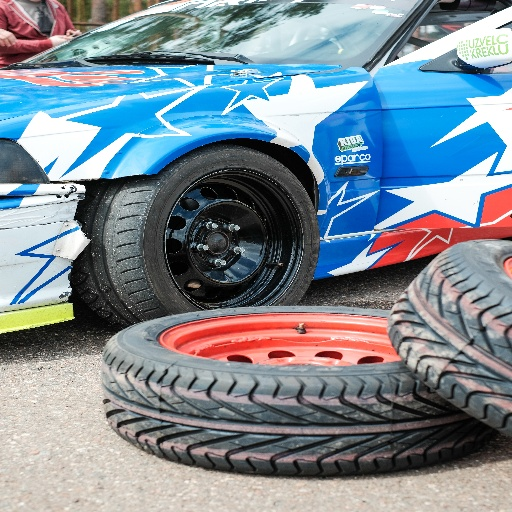hand: (0, 26, 20, 49), (49, 35, 76, 47)
